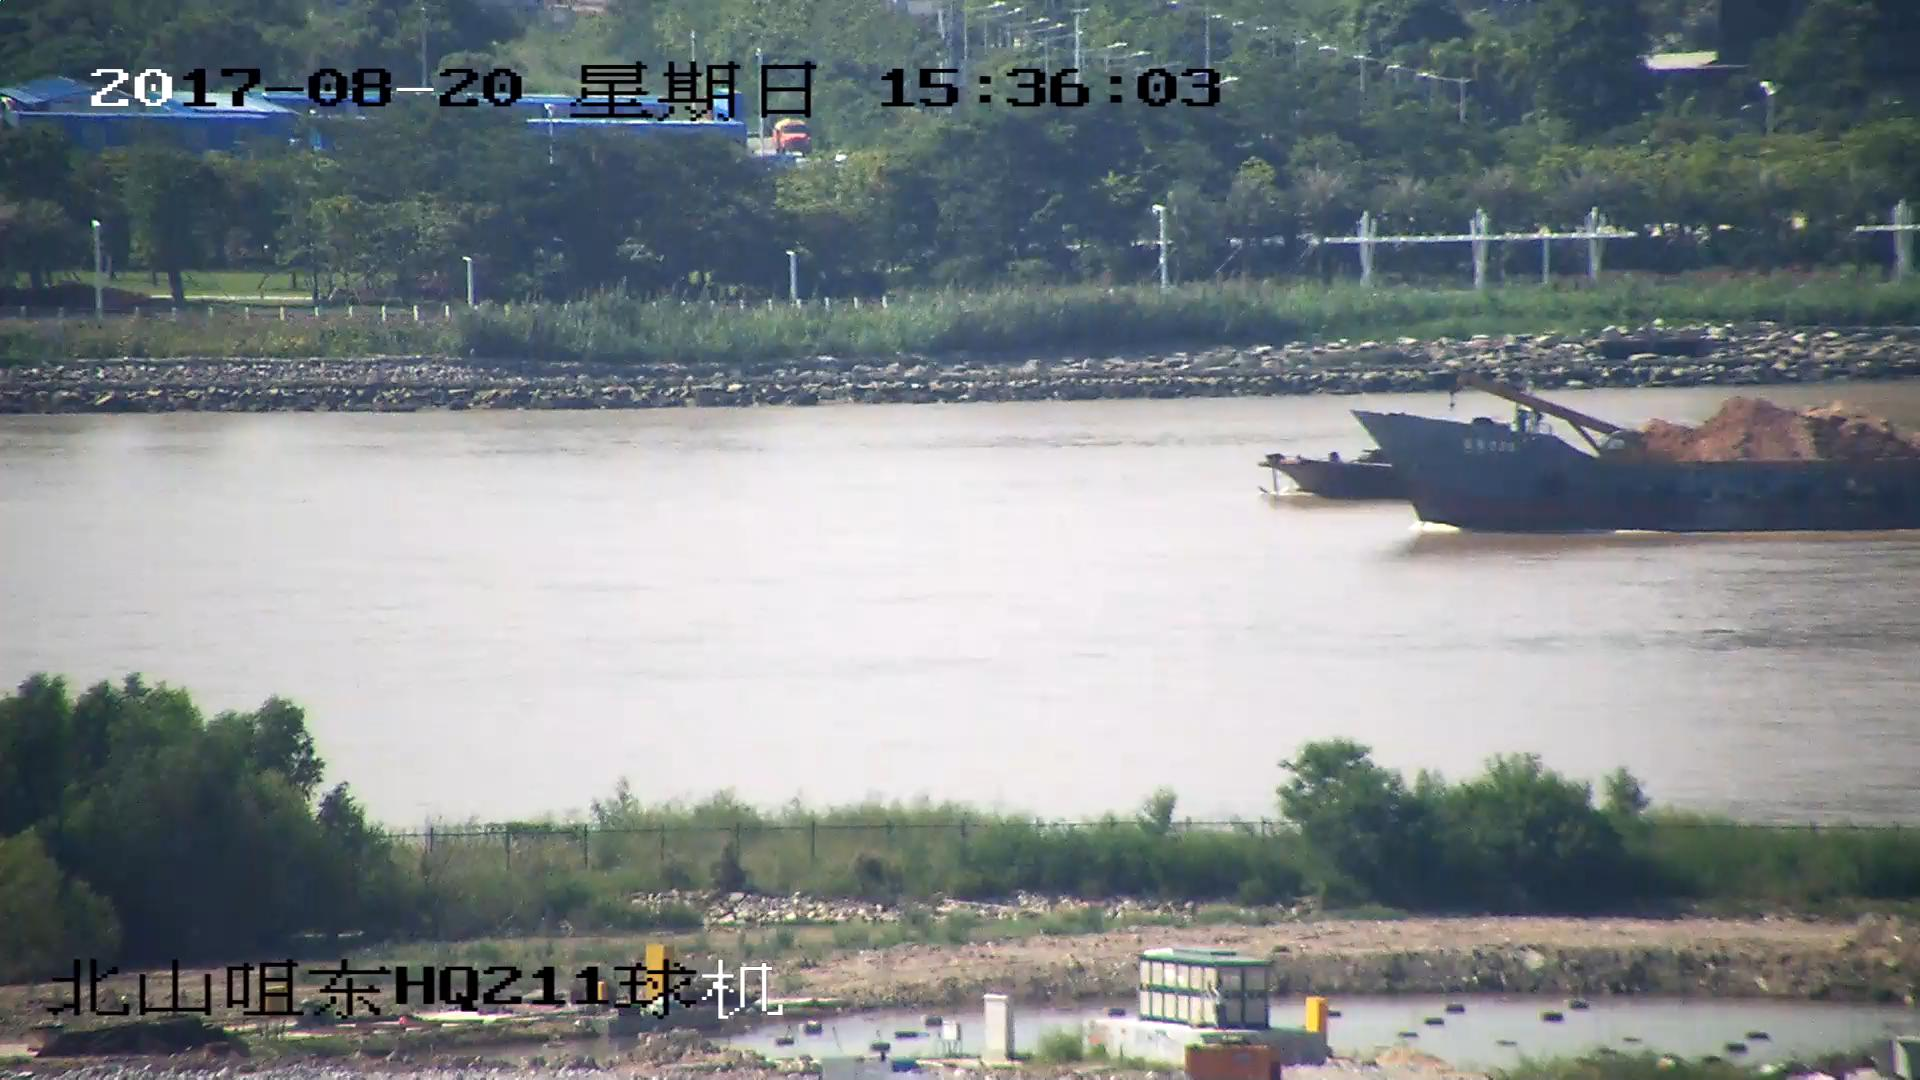general cargo ship: (1363, 382, 1920, 529)
ore carrier: (1261, 393, 1920, 502)
